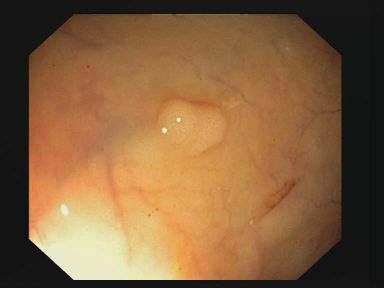polyp: (137, 75, 254, 161)
